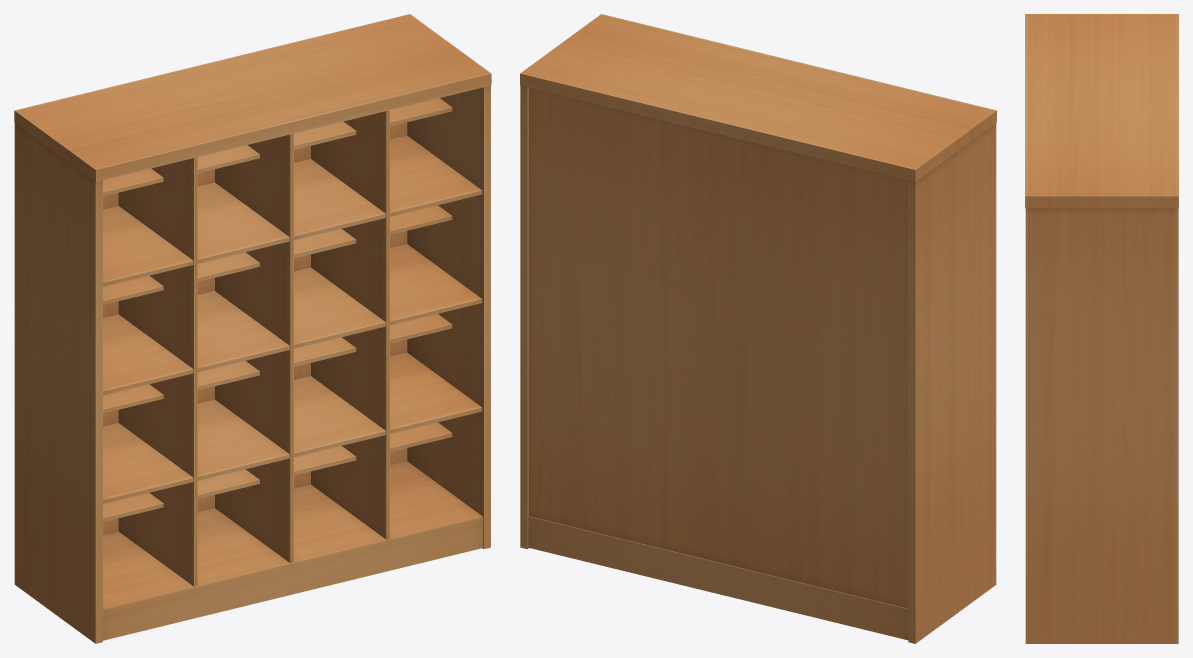
The model's file is set_shoecupboard_b_06.fbx.
3 views of the same model, side by side, from view 1: azimuth 30°, elevation 25°; view 2: azimuth 150°, elevation 25°; view 3: azimuth 270°, elevation 25° (orthographic). The views are drawn at different scales.
Parts seen in each view (by area): view 1: set_shoecupboard_b_06; view 2: set_shoecupboard_b_06; view 3: set_shoecupboard_b_06.
Part boxes in pixels (<box>): set_shoecupboard_b_06: <box>14,14,491,643</box>; set_shoecupboard_b_06: <box>520,14,996,643</box>; set_shoecupboard_b_06: <box>1025,14,1178,643</box>.
Bounding box in the file's own units: 105 × 120 × 37.38.
